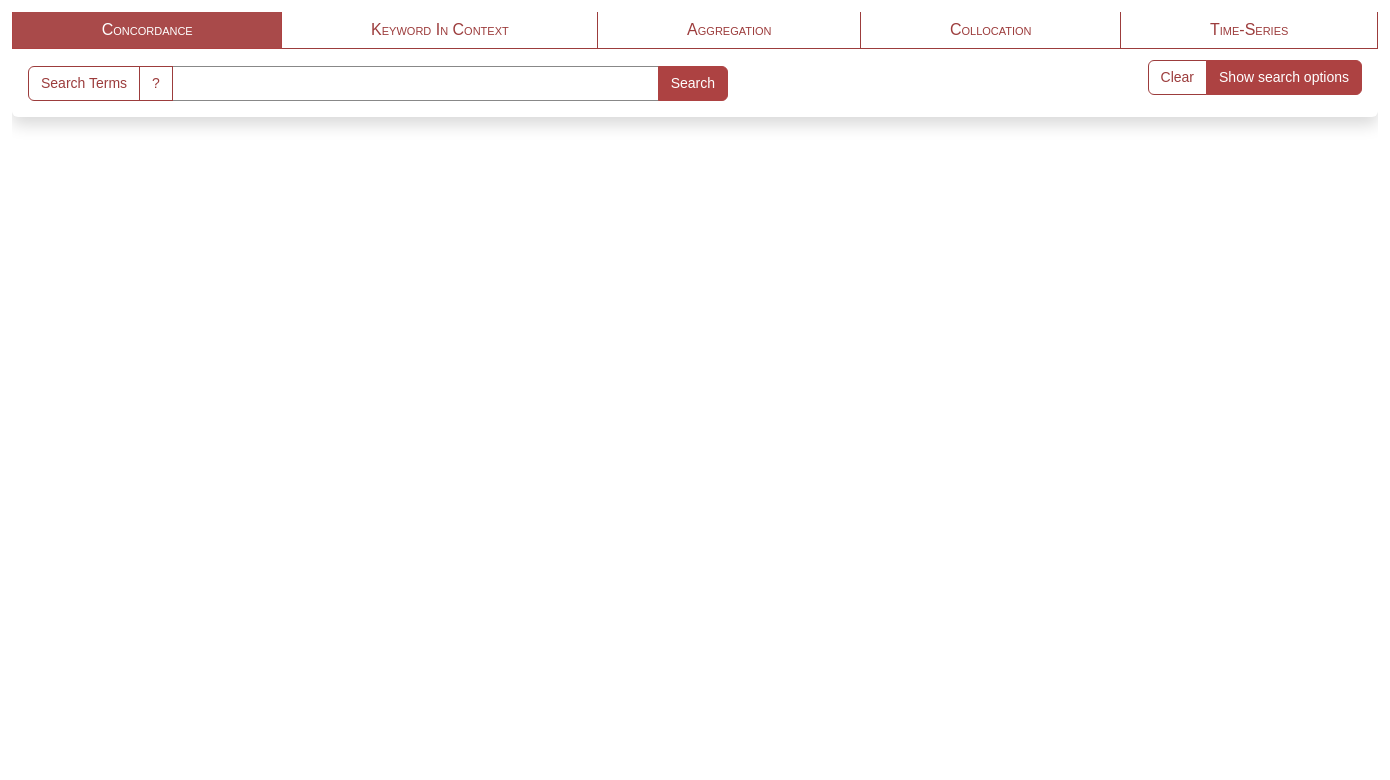
Test: SearchForm › toggles advanced search options visibility
This screenshot has width=1390, height=780.
What coordinates should you click on to do the following:
click the button with id "show-search-form"
I would click on:
 (1284, 78)
Its box is [1206,60,1362,95].
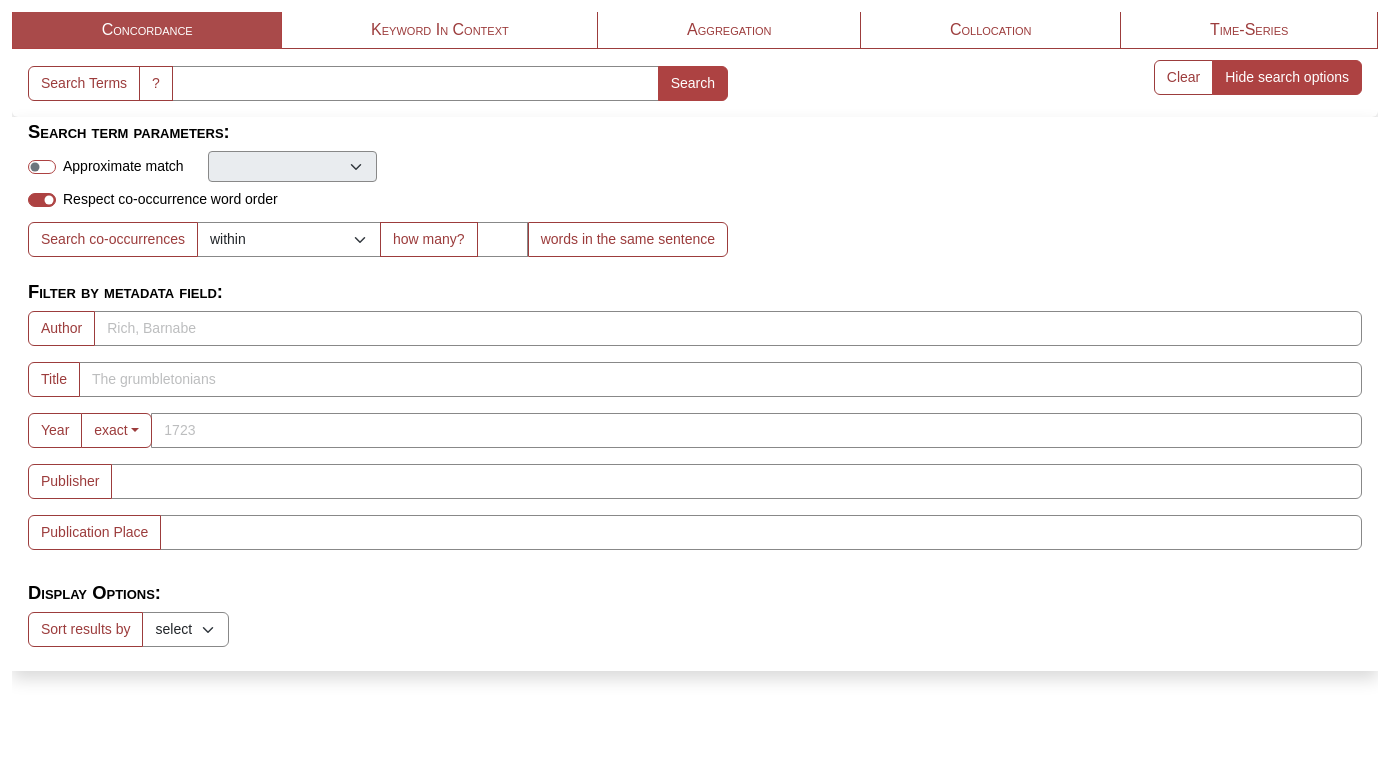
Now the element with id "search-elements" is shown
